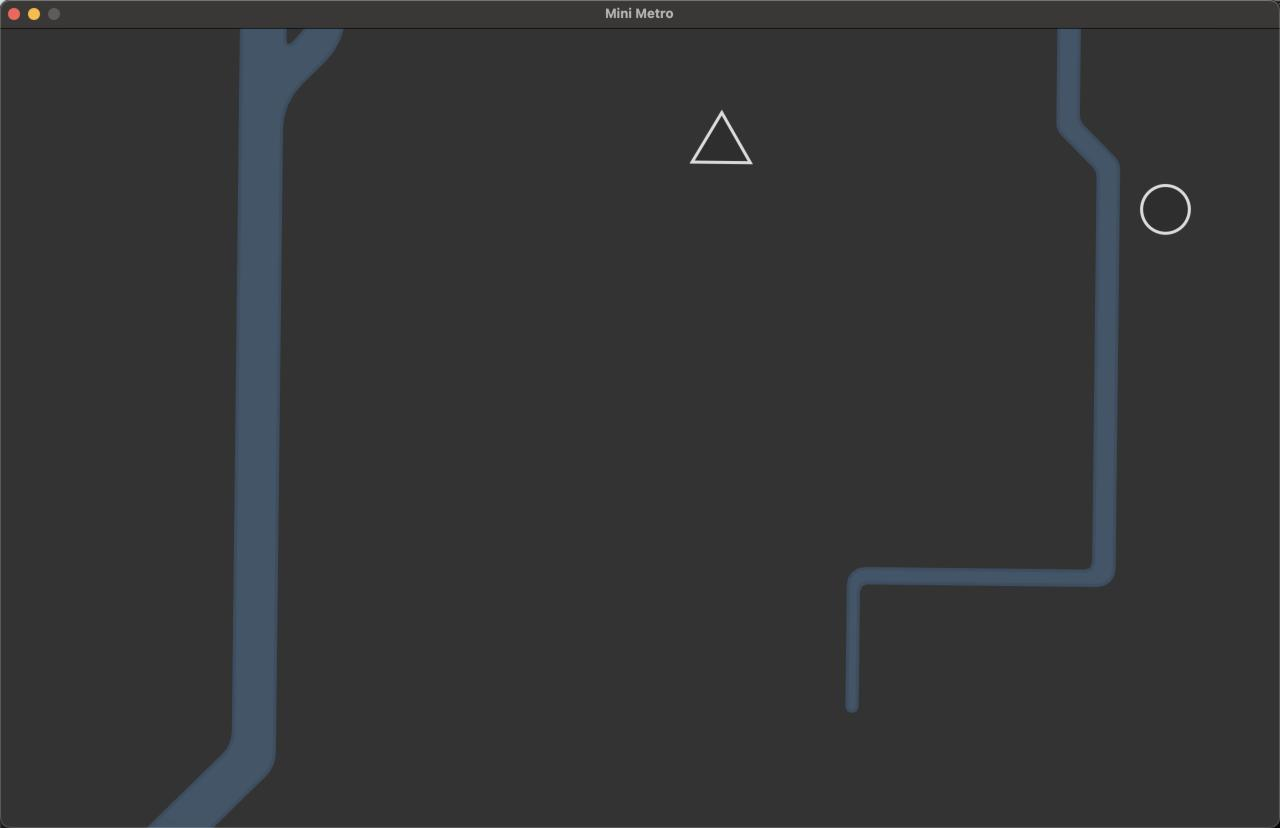CIRCLE: (1138, 181, 1193, 236)
TRIANGLE: (688, 108, 754, 166)
